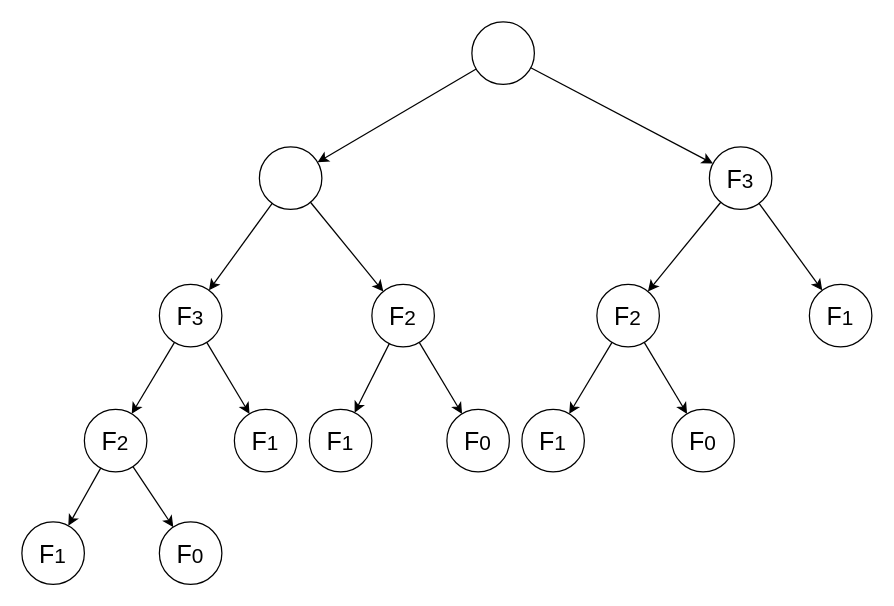
This 894x606 diagram has some shape labels left out. Each missing label, with the centre of its shape:
F 4: the point at 290,177
F 5: the point at 502,52
